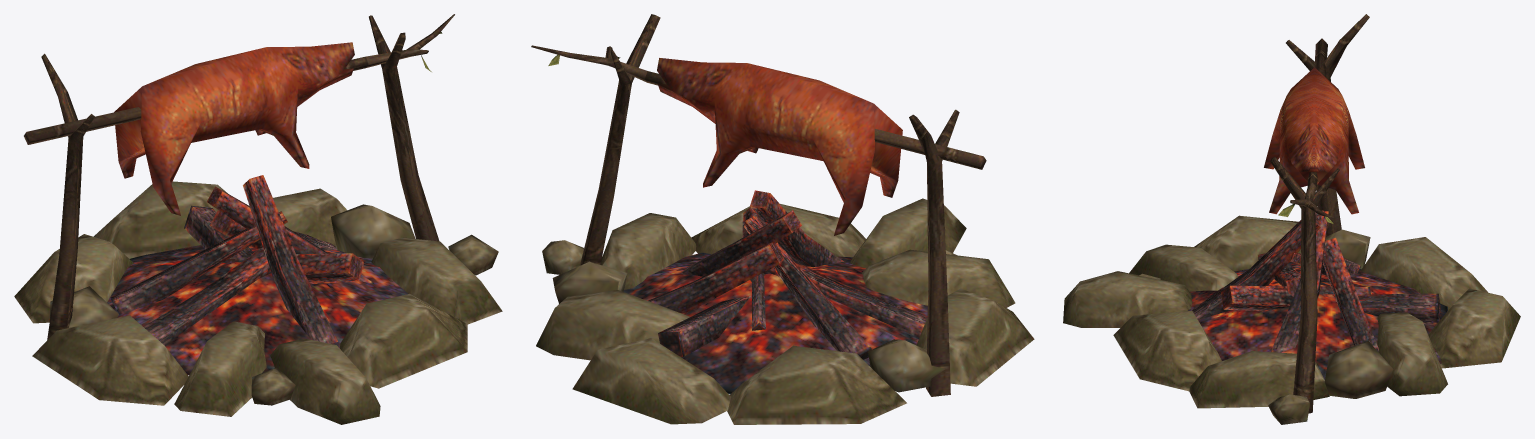
File: 10204_tent_01.FBX
3 views of the same model, side by side, from view 1: azimuth 30°, elevation 25°; view 2: azimuth 150°, elevation 25°; view 3: azimuth 270°, elevation 25° (orthographic). The views are drawn at different scales.
Parts seen in each view (by area): view 1: 10204_tent_01; view 2: 10204_tent_01; view 3: 10204_tent_01.
Part boxes in pixels (left/top/right/bottom): 10204_tent_01: left=14, top=14, right=502, bottom=424; 10204_tent_01: left=531, top=14, right=1034, bottom=424; 10204_tent_01: left=1063, top=14, right=1520, bottom=424.
Size of the model in its own units: 149 by 92.14 by 151.
